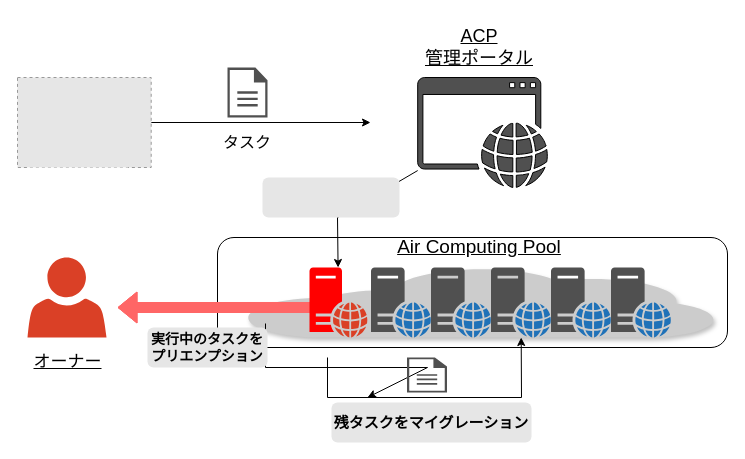
This 745x459 diagram has some shape labels left out. Grey dashed boxes stand in for pictures. The shapes that lost their labels are listed below. From the top down, each one's centre as x and y in pixels, then its label:
At point (77, 187): "ユーザー".
At point (330, 197): "最短GPUに割り当て".
